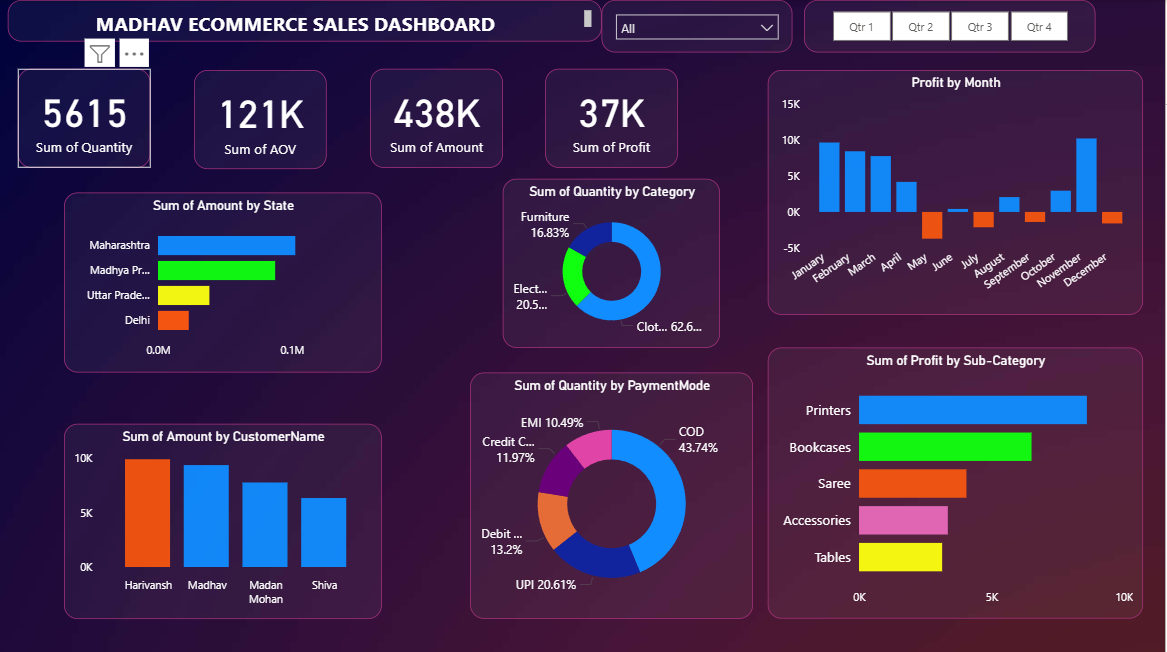

This screenshot's page, from the dashboard's own definition file:
{"tool":"powerbi","page":{"name":"Page 1","canvas":[1280,720],"ordinal":0},"visuals":[{"type":"textbox","box":[9.6,0,651.8,45.3],"z":0},{"type":"columnChart","title":"Profit by Month","fields":{"Category":["Orders.Order Date.Variation.Date Hierarchy.Month"],"Y":["Details.Profit"]},"box":[843.9,76.8,411.7,269],"z":1000},{"type":"barChart","fields":{"Category":["Details.Sub-Category"],"Y":["Details.Profit"]},"box":[843.9,381.5,411.7,297.8],"z":2000},{"type":"donutChart","fields":{"Category":["Details.Category"],"Y":["Details.Quantity"]},"box":[553,196.2,238.8,185.2],"z":3000},{"type":"donutChart","fields":{"Y":["Details.Quantity"],"Category":["Details.PaymentMode"]},"box":[517.3,408.9,310.1,270.3],"z":4000},{"type":"card","fields":{"Values":["Details.Amount"]},"box":[407.5,75.5,145.5,108.4],"z":5000},{"type":"card","fields":{"Values":["Details.Quantity"]},"box":[20.6,75.5,145.5,108.4],"z":6000},{"type":"card","fields":{"Values":["Details.Profit"]},"box":[599.7,75.5,145.5,108.4],"z":7000},{"type":"card","fields":{"Values":["Details.AOV"]},"box":[214.1,76.8,145.5,108.4],"z":8000},{"type":"barChart","fields":{"Category":["Orders.State"],"Y":["Details.Amount"]},"box":[71.4,211.3,348.5,197.6],"z":9000},{"type":"columnChart","fields":{"Category":["Orders.CustomerName"],"Y":["Details.Amount"]},"box":[71.4,465.2,348.5,214.1],"z":10000},{"type":"slicer","fields":{"Values":["Orders.Order Date.Variation.Date Hierarchy.Quarter"]},"box":[883.7,0,319.7,57.6],"z":11000},{"type":"slicer","fields":{"Values":["Orders.State"]},"box":[661.4,0,209.9,57.6],"z":12000}]}

Visuals, with their boxes in screenshot pixels (x1, y1, x2, y2), scaled from the page's 1280x720 canvas onto the 1167x652 screenshot:
textbox: [9,0,603,41]
"Profit by Month" columnChart: [769,70,1145,313]
barChart - Details.Sub-Category x Details.Profit: [769,345,1145,615]
donutChart - Details.Category x Details.Quantity: [504,178,722,345]
donutChart - Details.Quantity x Details.PaymentMode: [472,370,754,615]
card - Details.Amount: [372,68,504,167]
card - Details.Quantity: [19,68,151,167]
card - Details.Profit: [547,68,679,167]
card - Details.AOV: [195,70,328,168]
barChart - Orders.State x Details.Amount: [65,191,383,370]
columnChart - Orders.CustomerName x Details.Amount: [65,421,383,615]
slicer - Orders.Order Date.Variation.Date Hierarchy.Quarter: [806,0,1097,52]
slicer - Orders.State: [603,0,794,52]
